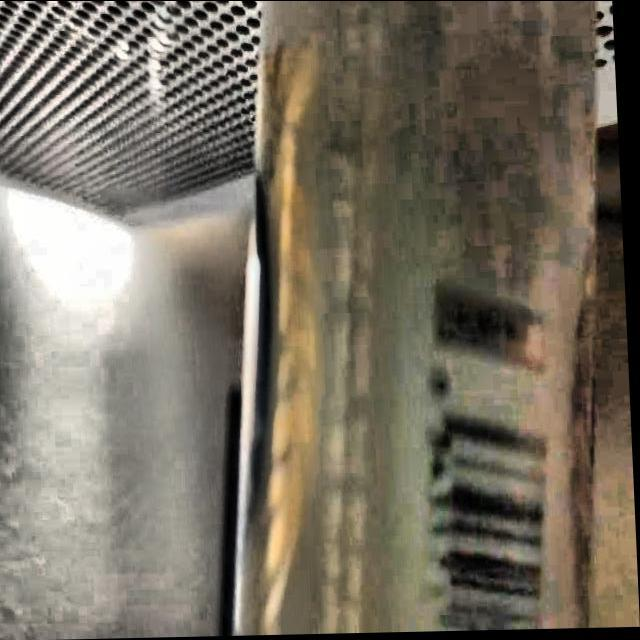Aluminum Can: (195, 0, 629, 636)
